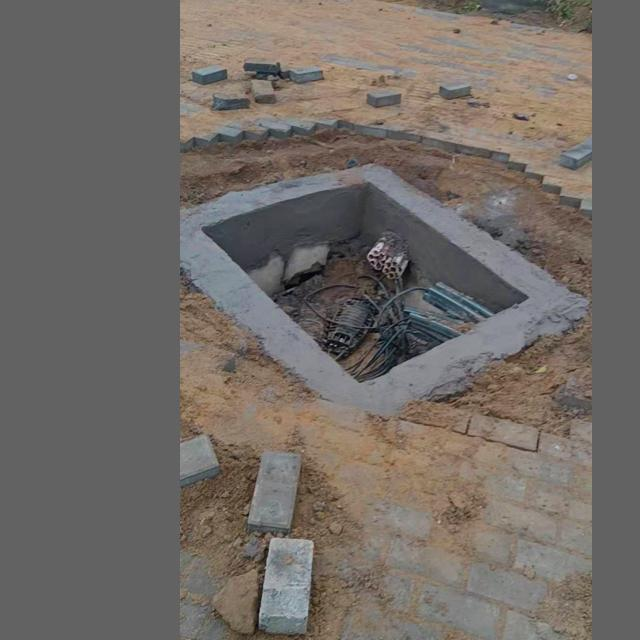lose: (181, 128, 585, 431)
